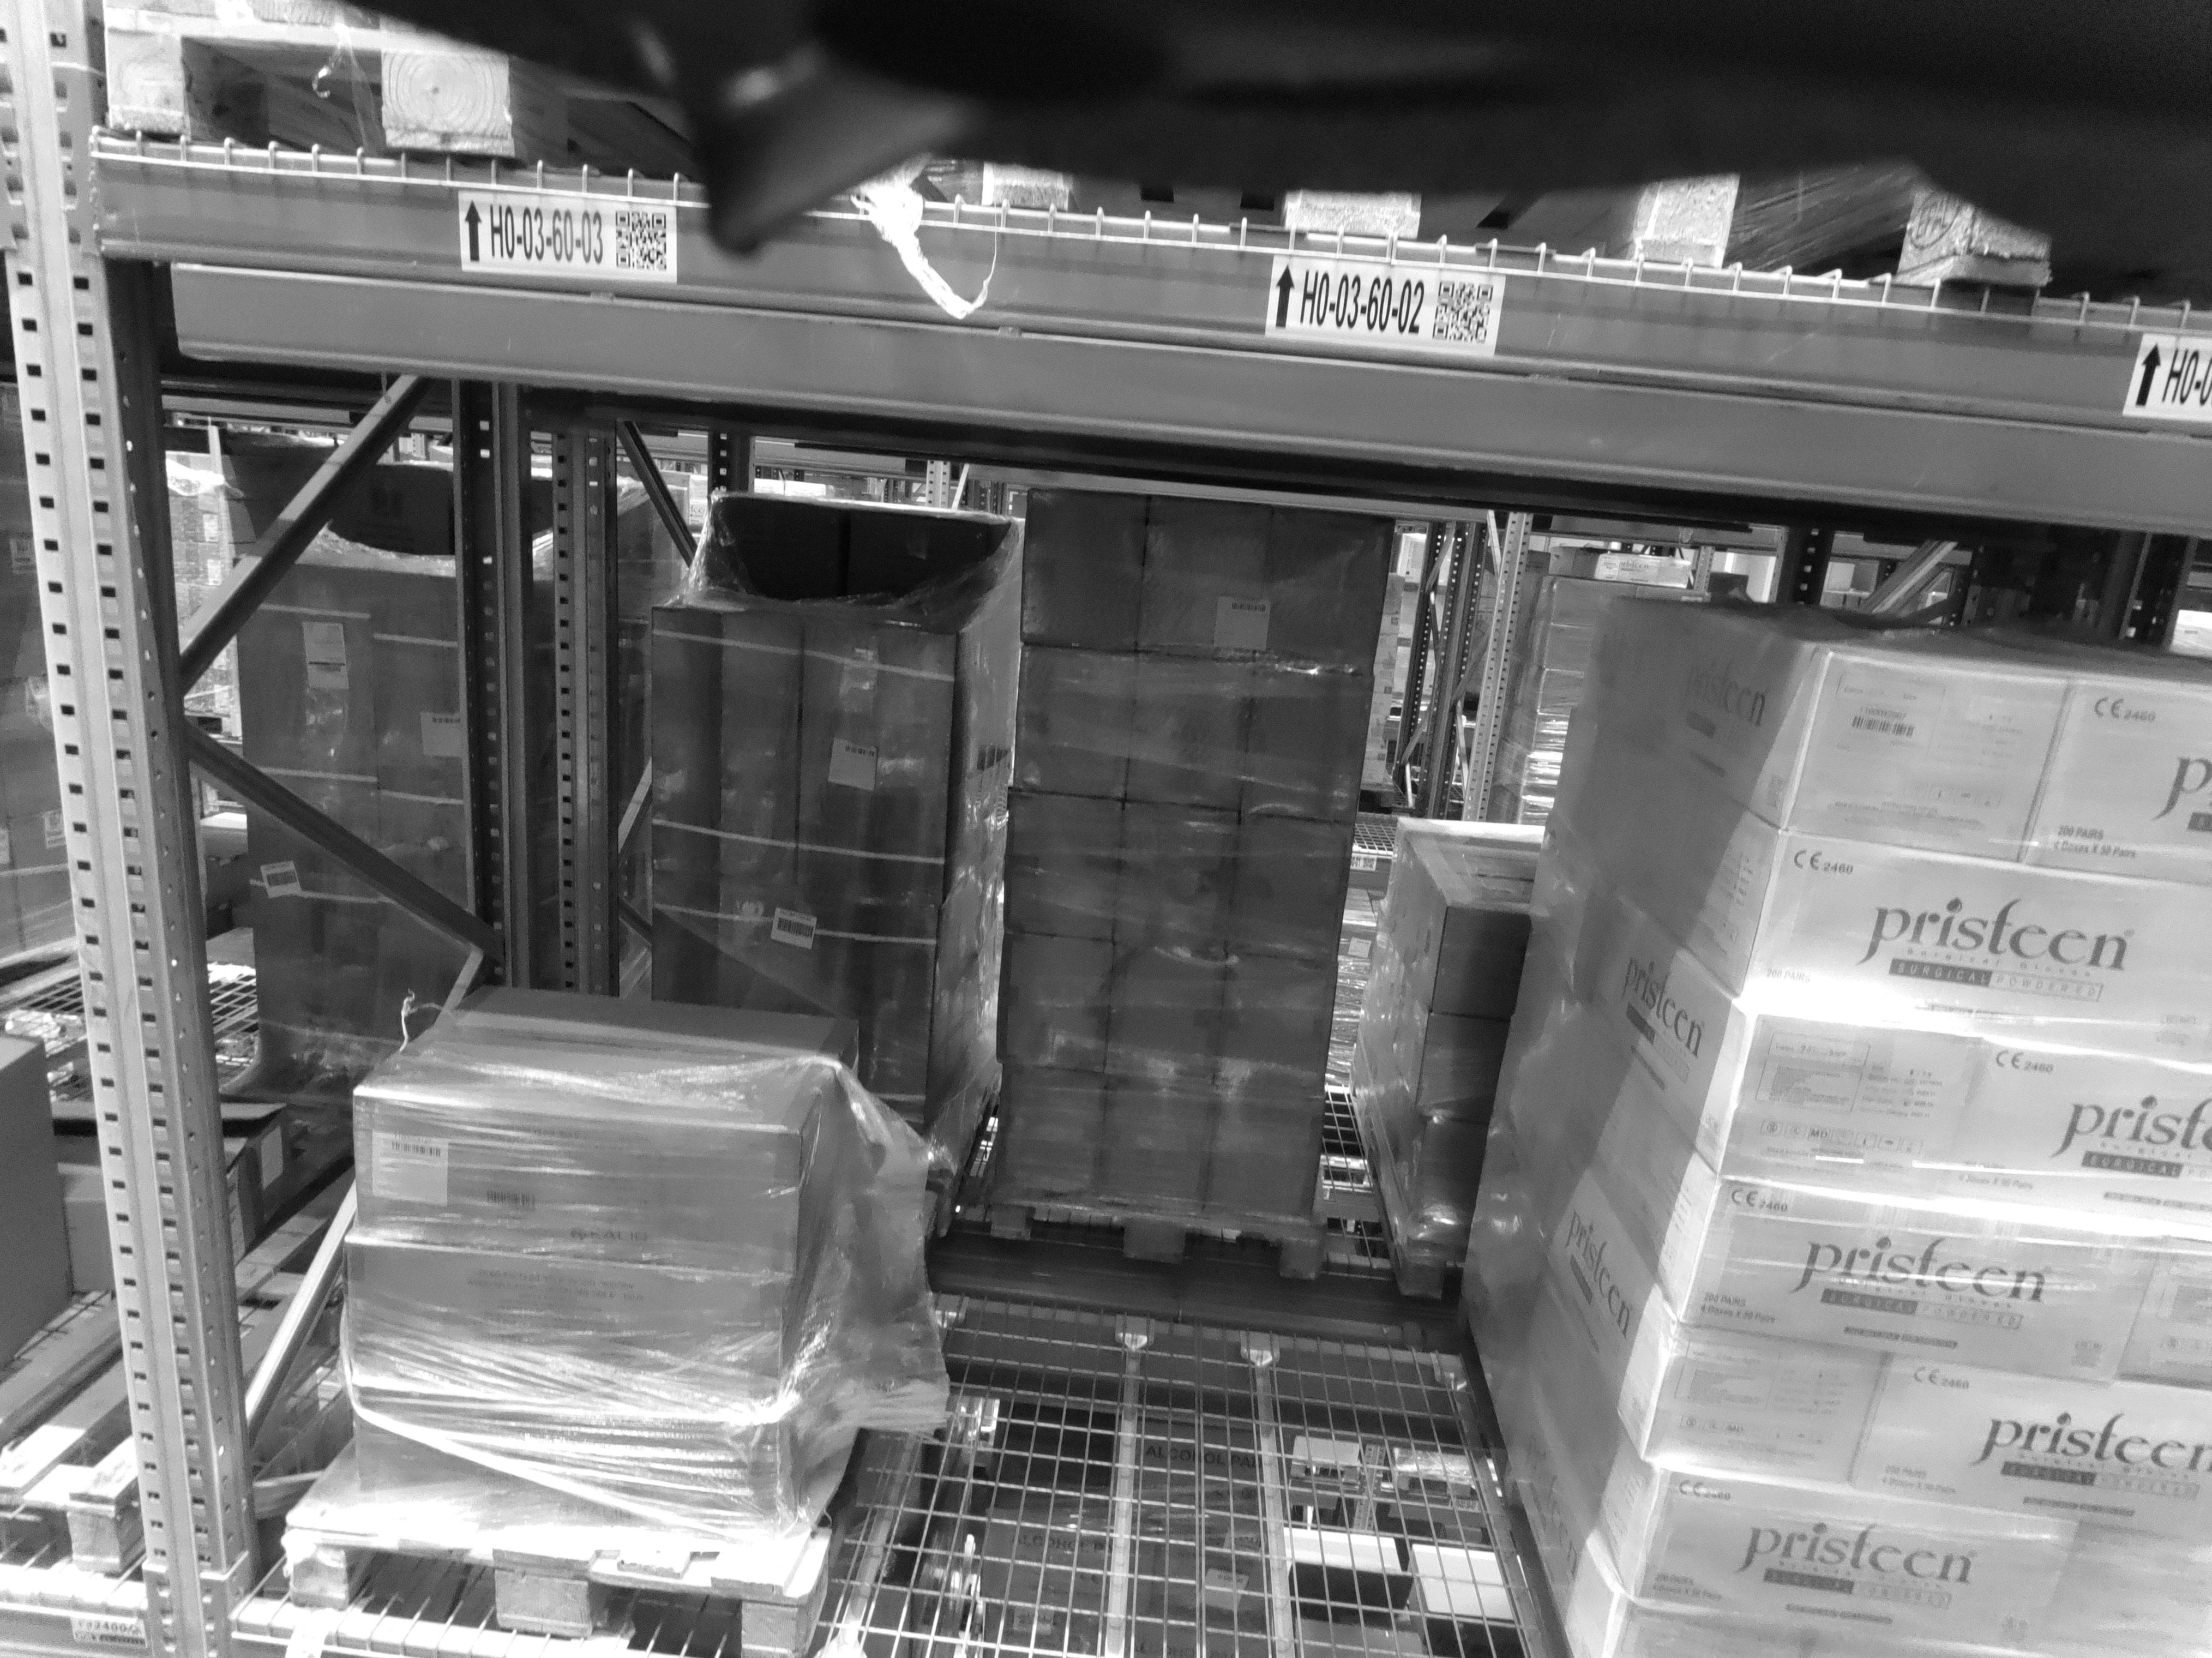empty-shelf: (925, 489, 1482, 1658)
